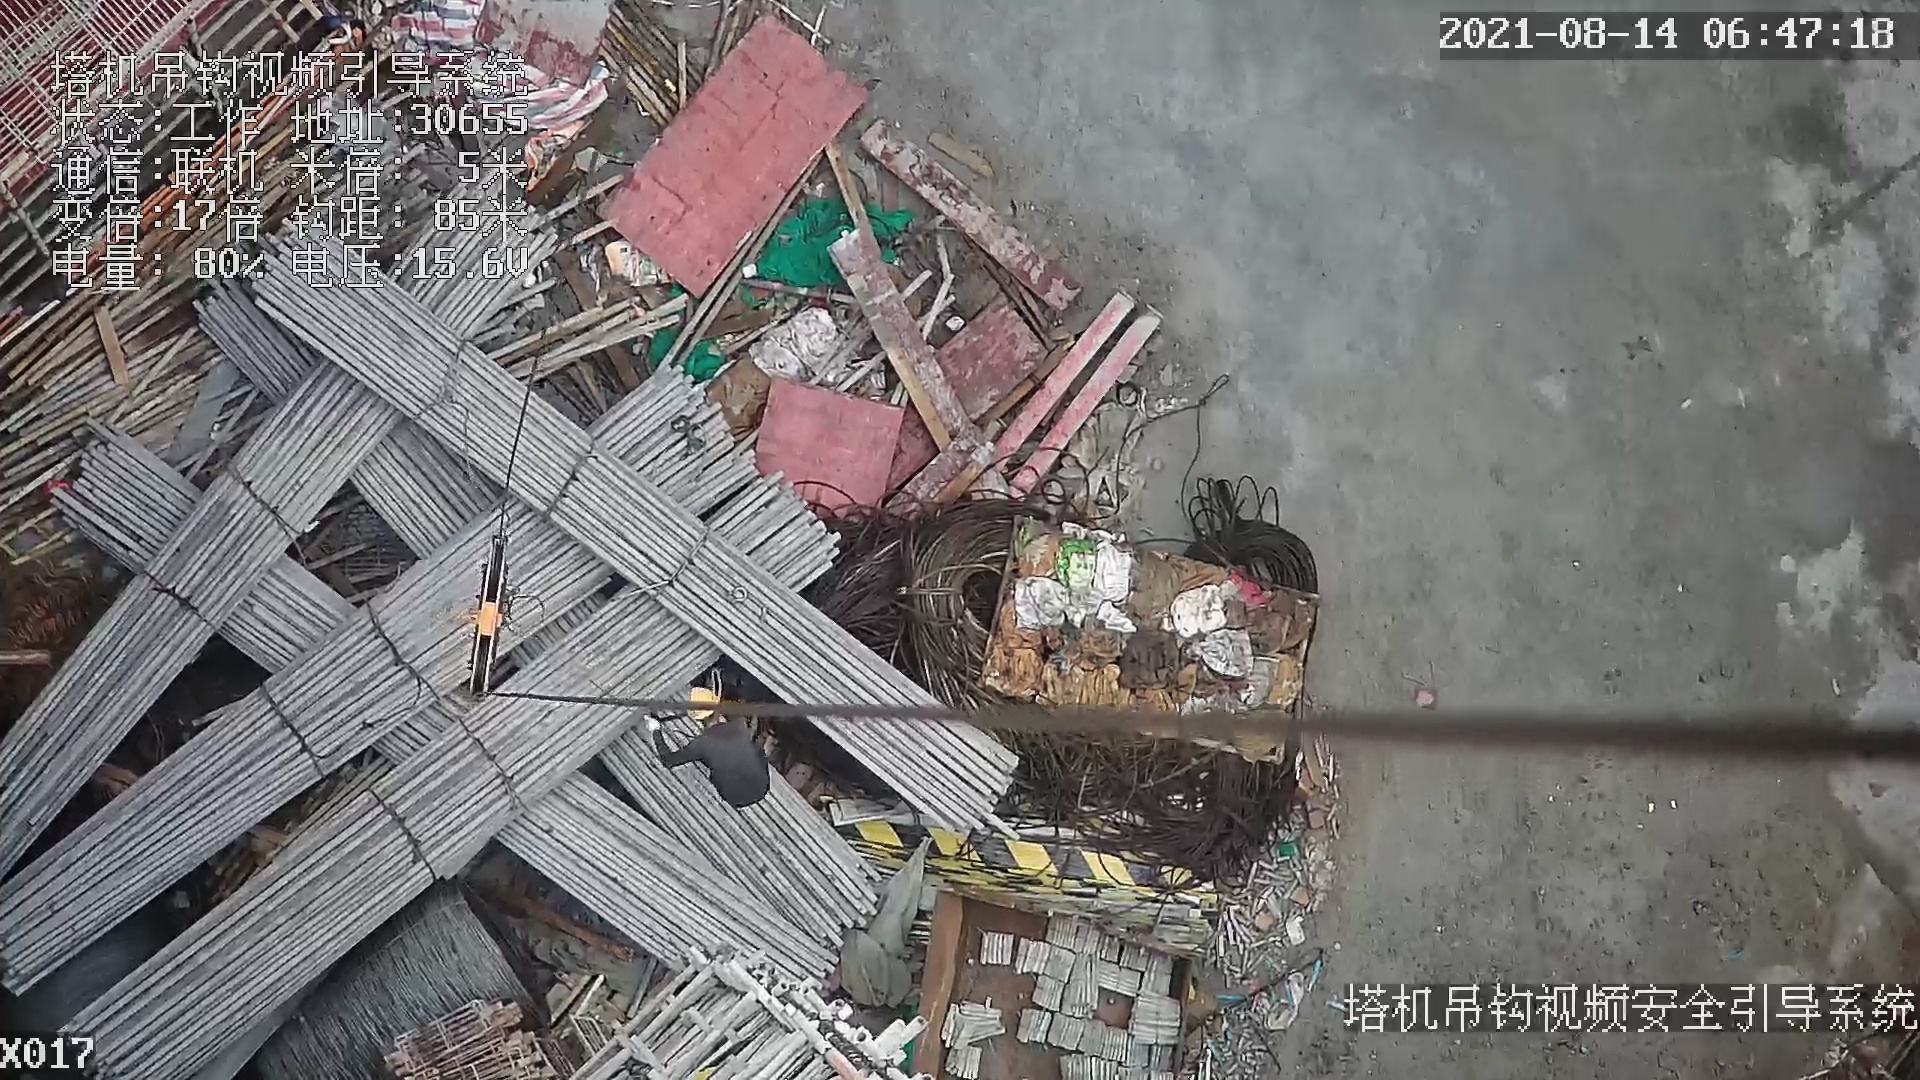board: (591, 9, 871, 309)
helmet: (677, 687, 714, 720)
hook: (463, 532, 526, 701)
person: (644, 686, 781, 812)
